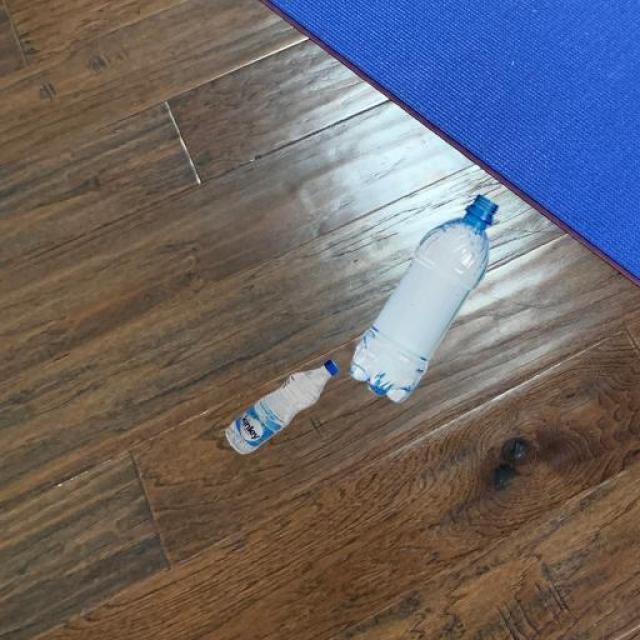plasticbottle: (202, 334, 352, 474)
